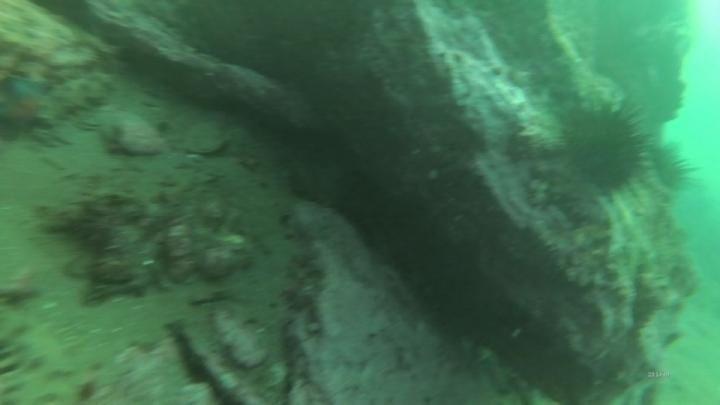echinus: (555, 100, 650, 196), (646, 140, 697, 195)
holothurian: (0, 313, 123, 403), (40, 72, 115, 124)
starfish: (0, 73, 55, 143)
